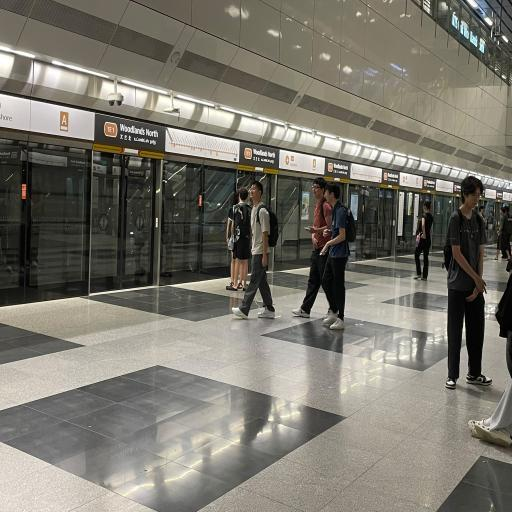person_left: (232, 181, 277, 319), (294, 179, 331, 316)
